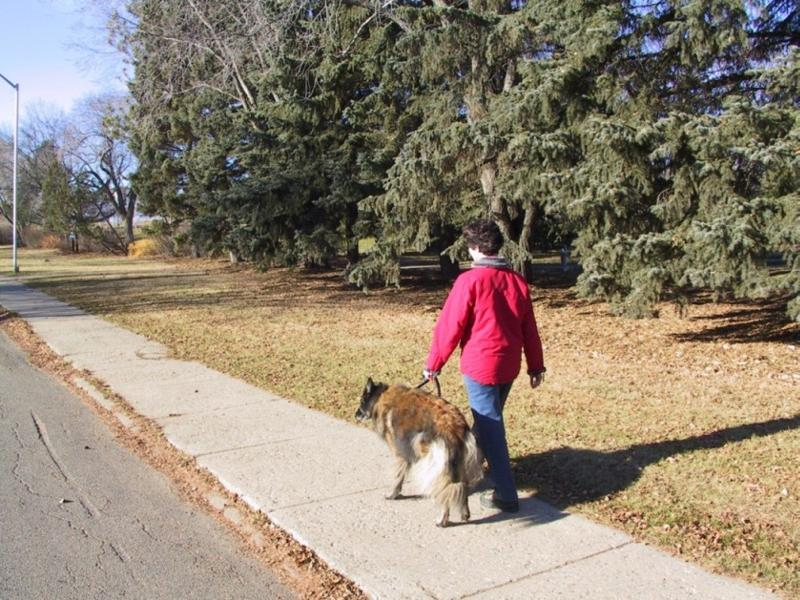person: (426, 220, 547, 510)
